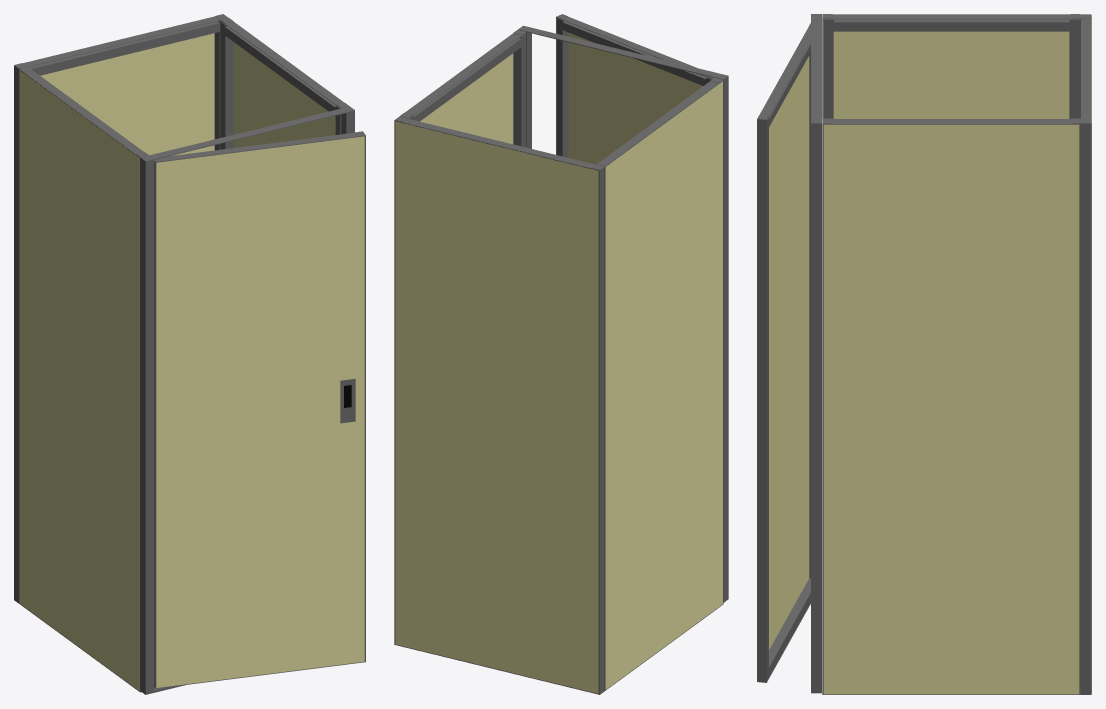
File: Storage Full Panels.glb
3 views of the same model, side by side, from view 1: azimuth 30°, elevation 25°; view 2: azimuth 150°, elevation 25°; view 3: azimuth 270°, elevation 25° (orthographic). The views are drawn at different scales.
Parts seen in each view (by area): view 1: Closet; view 2: Closet; view 3: Closet.
Part boxes in pixels (x1,y1,x2,y2): Closet: (14, 14, 365, 694); Closet: (394, 14, 728, 694); Closet: (757, 14, 1091, 694).
Size of the model in its own units: 0.9697 by 2.36 by 1.25.
